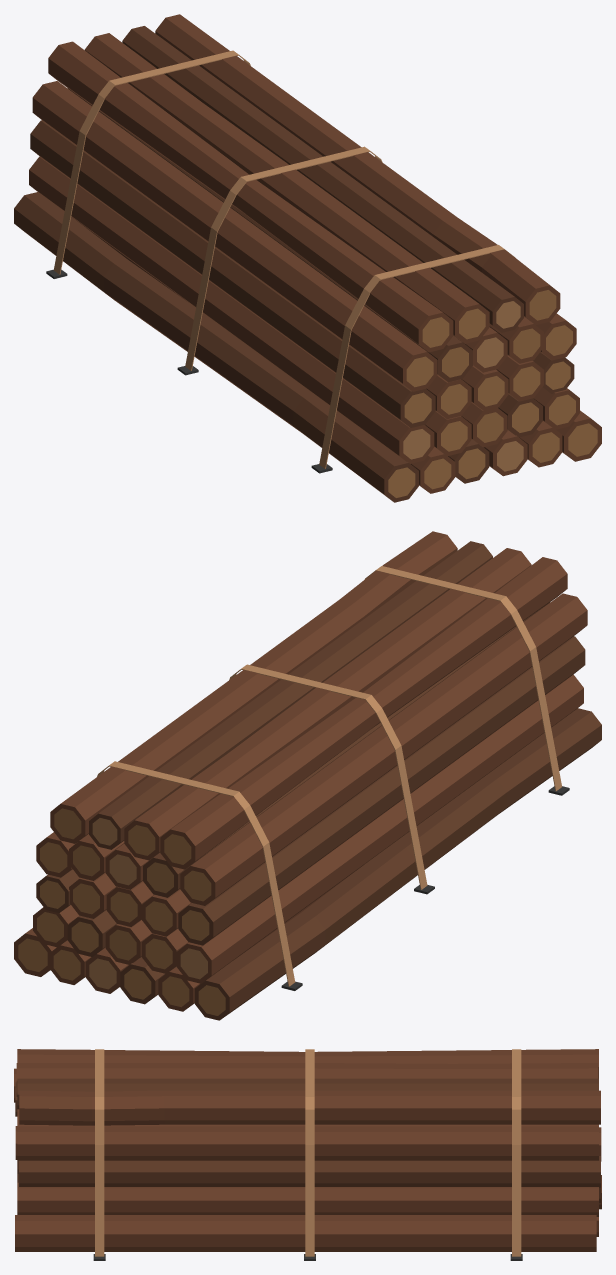
Rendered from TrainPart_03.fbx.
3 renders of one model, top to bottom at view 1: azimuth 30°, elevation 25°; view 2: azimuth 150°, elevation 25°; view 3: azimuth 270°, elevation 25°, orthographic. The views are drawn at different scales.
Parts seen in each view (by area): view 1: TrainPart_03; view 2: TrainPart_03; view 3: TrainPart_03.
Boxes of the visible parts, box(x1,y1,x2,y2) form: TrainPart_03: box(14, 14, 601, 502); TrainPart_03: box(14, 531, 601, 1020); TrainPart_03: box(14, 1049, 601, 1260).
Size of the model in its own units: 326 by 226 by 853.
